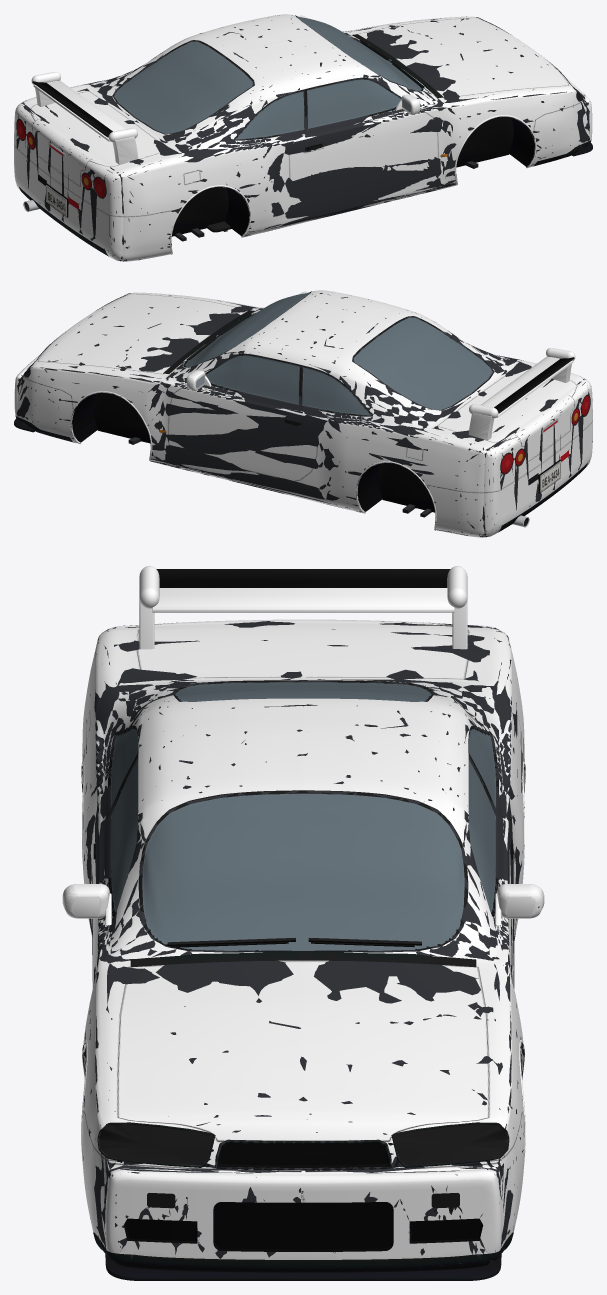
File: body-gtr-q.glb
3 views of the same model, one above another, from view 1: azimuth 30°, elevation 25°; view 2: azimuth 150°, elevation 25°; view 3: azimuth 270°, elevation 25° (orthographic). The views are drawn at different scales.
Visible parts, largest first — view 1: body_paint, body_inside, body_glass, body_dark, body_trim, wing_paint, wing_trim, body_tail, body_under, body_plate; view 2: body_paint, body_inside, body_glass, body_dark, body_trim, wing_paint, wing_trim, body_tail, body_plate; view 3: body_paint, body_glass, body_inside, body_trim, body_net, wing_paint, body_lens, wing_trim, body_netF, body_dark.
Boxes of the visible parts, box(x1,y1,x2,y2) form: body_paint: box(14, 14, 592, 261); body_inside: box(14, 15, 589, 261); body_glass: box(114, 16, 421, 139); body_dark: box(24, 42, 534, 236); body_trim: box(16, 15, 592, 256); wing_paint: box(31, 72, 138, 164); wing_trim: box(32, 81, 112, 137); body_tail: box(17, 119, 105, 209); body_under: box(72, 161, 478, 241); body_plate: box(46, 185, 66, 216); body_paint: box(14, 290, 592, 537); body_inside: box(15, 292, 592, 537); body_glass: box(185, 292, 492, 415); body_dark: box(72, 314, 568, 526); body_trim: box(14, 291, 590, 532); wing_paint: box(468, 348, 575, 440); wing_trim: box(494, 357, 574, 413); body_tail: box(501, 395, 589, 473); body_plate: box(540, 461, 560, 492); body_paint: box(62, 619, 544, 1259); body_glass: box(111, 682, 495, 950); body_inside: box(81, 621, 539, 1271); body_trim: box(93, 680, 513, 1280); body_net: box(126, 1202, 480, 1249); wing_paint: box(139, 566, 467, 649); body_lens: box(99, 1124, 507, 1208); wing_trim: box(156, 569, 450, 587); body_netF: box(220, 1142, 386, 1165); body_dark: box(86, 839, 520, 1251).
Size of the model in its own units: 4.64 by 1.24 by 1.95.
20 materials, 8 textured.
